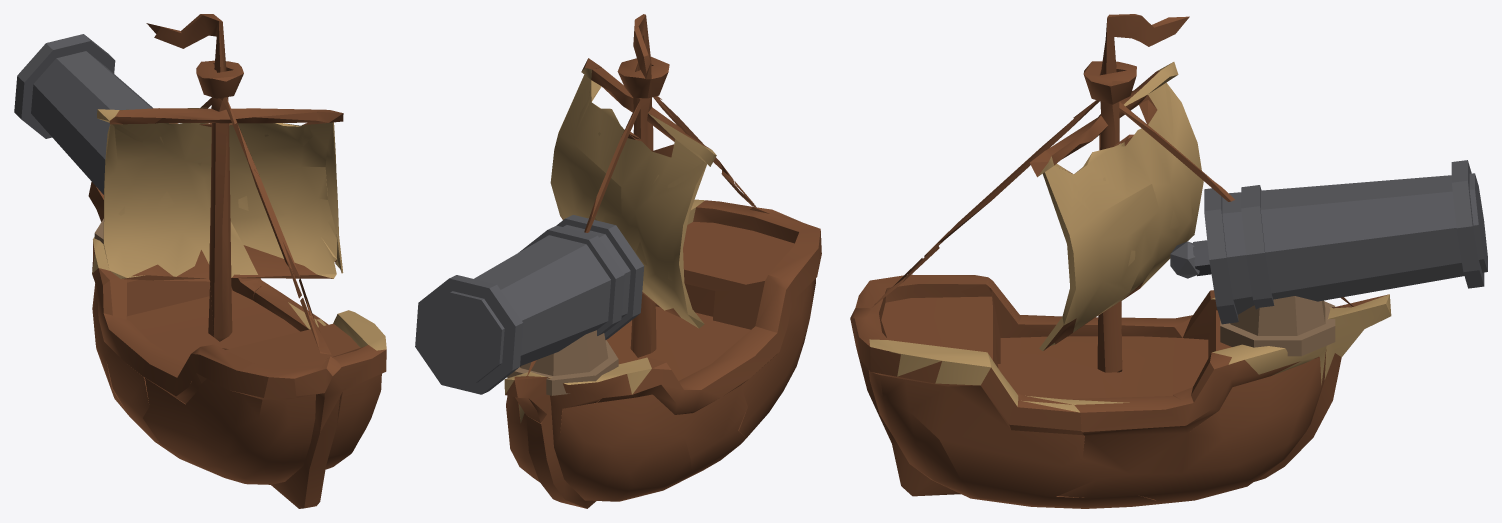
File: ship.glb
3 renders of one model, left to right at view 1: azimuth 30°, elevation 25°; view 2: azimuth 150°, elevation 25°; view 3: azimuth 270°, elevation 25°, orthographic. The views are drawn at different scales.
Parts seen in each view (by area): view 1: ship, ship_cannon; view 2: ship, ship_cannon; view 3: ship, ship_cannon.
Part boxes in pixels (x1,y1,x2,y2): ship: (88,14,386,508); ship_cannon: (14,34,152,243); ship: (504,14,821,508); ship_cannon: (415,215,644,395); ship: (850,14,1391,508); ship_cannon: (1170,160,1487,356).
Bounding box in the file's own units: 0.4712 × 0.974 × 1.18.
